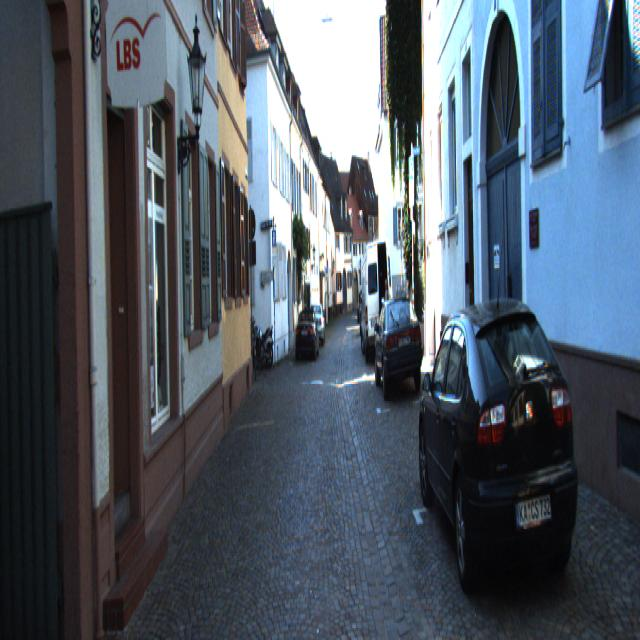Car: (416, 294, 579, 620), (373, 292, 423, 402), (295, 307, 319, 360), (307, 302, 325, 346)
Misc: (245, 313, 274, 370)
Van: (361, 232, 392, 360)
